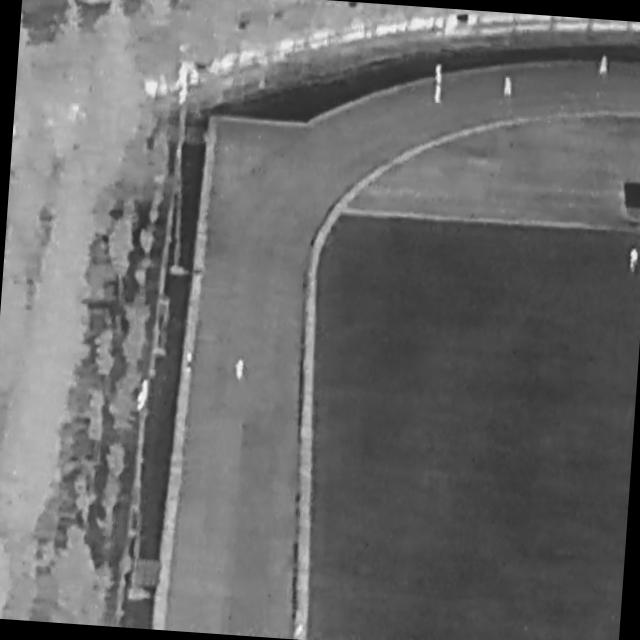person: (293, 612, 308, 640), (628, 245, 640, 273), (434, 61, 445, 88), (235, 355, 246, 381), (433, 81, 444, 106), (599, 55, 610, 76), (185, 351, 195, 374), (504, 76, 514, 98)
